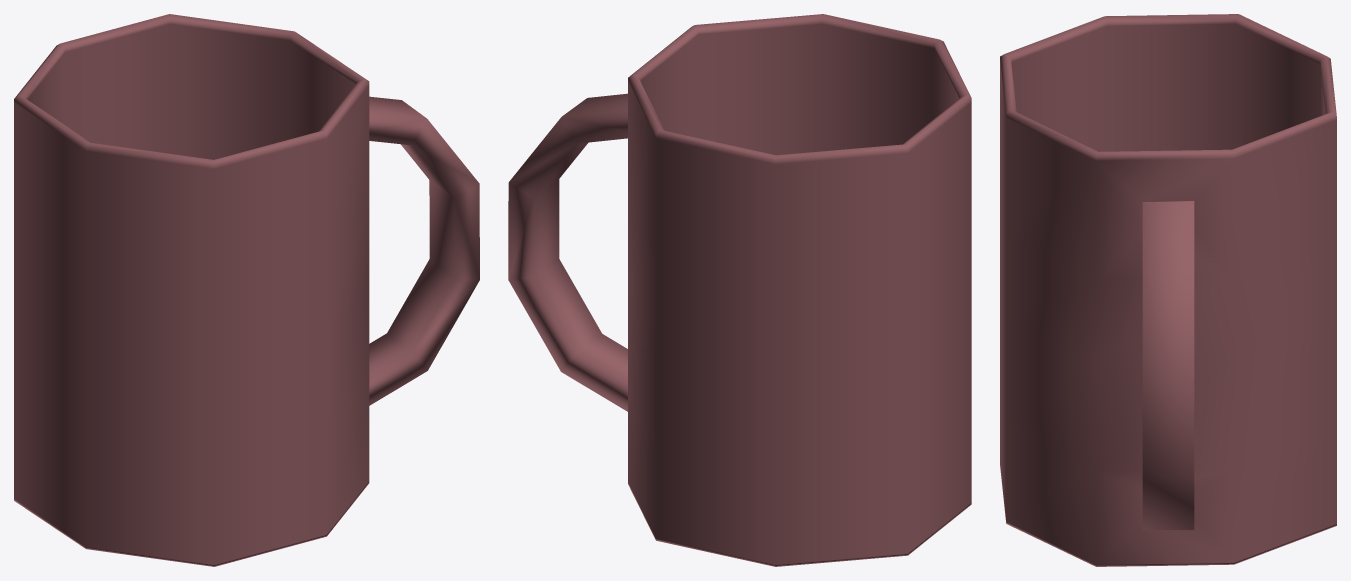
File: CoffeeCup.FBX
3 renders of one model, left to right at view 1: azimuth 30°, elevation 25°; view 2: azimuth 150°, elevation 25°; view 3: azimuth 270°, elevation 25°, orthographic. The views are drawn at different scales.
Visible parts, largest first — view 1: CoffeeCup; view 2: CoffeeCup; view 3: CoffeeCup.
Boxes of the visible parts, left/top/right/bottom form: CoffeeCup: left=14, top=14, right=479, bottom=566; CoffeeCup: left=508, top=14, right=971, bottom=566; CoffeeCup: left=1000, top=14, right=1336, bottom=566.
Size of the model in its own units: 34.82 by 23.82 by 32.26.
